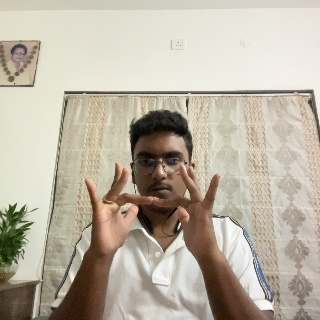Internet: (87, 162, 222, 262)
